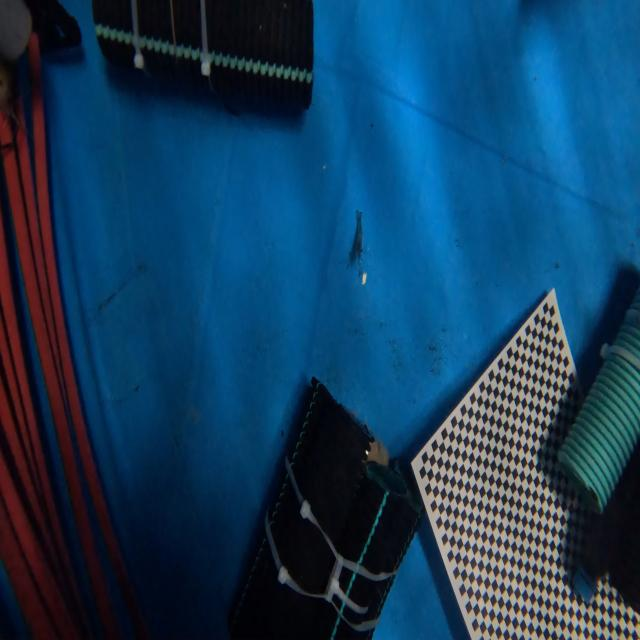prawn: (348, 211, 363, 263)
